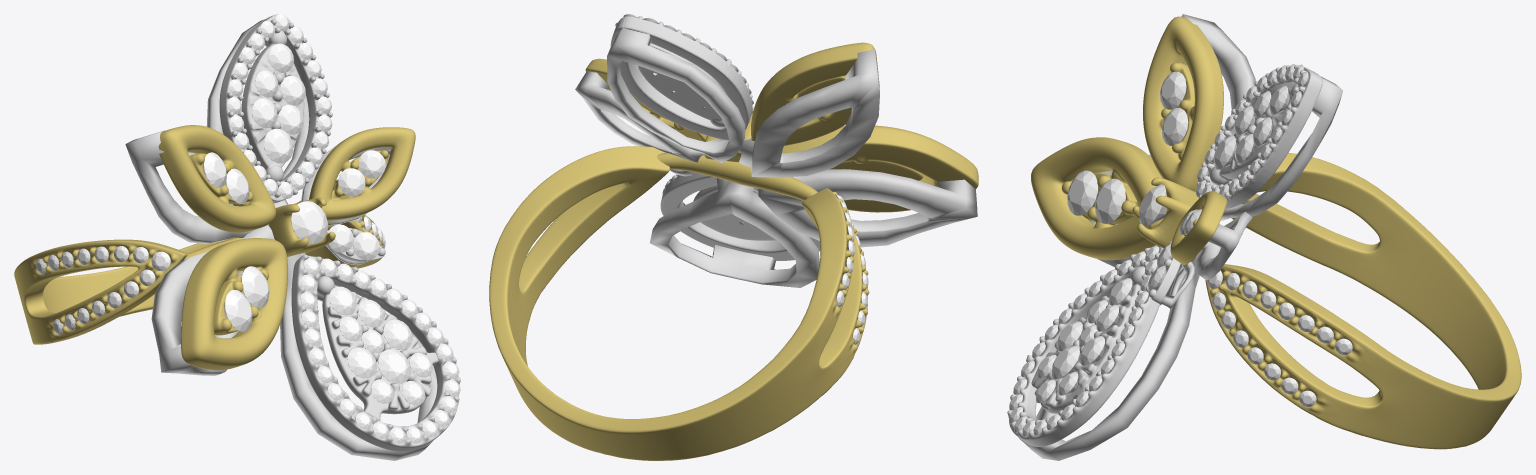
Rendered from ciciek-yuzuk.glb.
3 views of the same model, side by side, from view 1: azimuth 30°, elevation 25°; view 2: azimuth 150°, elevation 25°; view 3: azimuth 270°, elevation 25° (orthographic). The views are drawn at different scales.
Parts seen in each view (by area): view 1: Retopo_Plane.002, Plane.021, Retopo_ring, Retopo_Sphere.001, Retopo_Vert.005, Retopo_Vert.002, Retopo_Vert.004, Cube.048, dobj.066, dobj.063, dobj.046, dobj.062 (+22 smaller); view 2: Retopo_ring, Plane.021, Retopo_Plane.002, Retopo_Vert.002, Retopo_Sphere.001, BézierCurve.001, Retopo_Vert.004, Retopo_Vert.005, Retopo_Vert.006; view 3: Retopo_ring, Retopo_Plane.002, Plane.021, Retopo_Sphere.001, Retopo_Vert.002, Retopo_Vert.005, Cube.048, Retopo_Vert.004, dobj.063, dobj.062, dobj.061, dobj.066 (+6 smaller).
Boxes of the visible parts, x1=… form: Retopo_Plane.002: x1=158, y1=125, x2=415, y2=369; Plane.021: x1=125, y1=19, x2=437, y2=460; Retopo_ring: x1=14, y1=179, x2=383, y2=344; Retopo_Sphere.001: x1=291, y1=254, x2=460, y2=451; Retopo_Vert.005: x1=317, y1=275, x2=438, y2=420; Retopo_Vert.002: x1=219, y1=14, x2=332, y2=203; Retopo_Vert.004: x1=241, y1=30, x2=304, y2=181; Cube.048: x1=268, y1=197, x2=335, y2=256; dobj.066: x1=291, y1=201, x2=327, y2=244; dobj.063: x1=224, y1=289, x2=252, y2=331; dobj.046: x1=378, y1=349, x2=410, y2=383; dobj.062: x1=241, y1=266, x2=269, y2=308; Retopo_ring: x1=489, y1=146, x2=869, y2=460; Plane.021: x1=575, y1=27, x2=977, y2=287; Retopo_Plane.002: x1=585, y1=42, x2=978, y2=212; Retopo_Vert.002: x1=610, y1=16, x2=753, y2=140; Retopo_Sphere.001: x1=660, y1=173, x2=820, y2=260; BézierCurve.001: x1=657, y1=152, x2=817, y2=200; Retopo_Vert.004: x1=638, y1=43, x2=724, y2=127; Retopo_Vert.005: x1=693, y1=185, x2=776, y2=240; Retopo_Vert.006: x1=630, y1=41, x2=749, y2=129; Retopo_ring: x1=1205, y1=152, x2=1521, y2=449; Retopo_Plane.002: x1=1031, y1=16, x2=1227, y2=264; Plane.021: x1=1018, y1=14, x2=1342, y2=460; Retopo_Sphere.001: x1=1007, y1=245, x2=1163, y2=446; Retopo_Vert.002: x1=1197, y1=64, x2=1322, y2=208; Retopo_Vert.005: x1=1031, y1=266, x2=1145, y2=413; Cube.048: x1=1132, y1=177, x2=1198, y2=261; Retopo_Vert.004: x1=1209, y1=83, x2=1298, y2=185; dobj.063: x1=1067, y1=170, x2=1098, y2=215; dobj.062: x1=1095, y1=178, x2=1125, y2=223; dobj.061: x1=1160, y1=71, x2=1186, y2=109; dobj.066: x1=1139, y1=184, x2=1166, y2=226.
Size of the model in its own units: 0.0212 by 0.022 by 0.0271.
